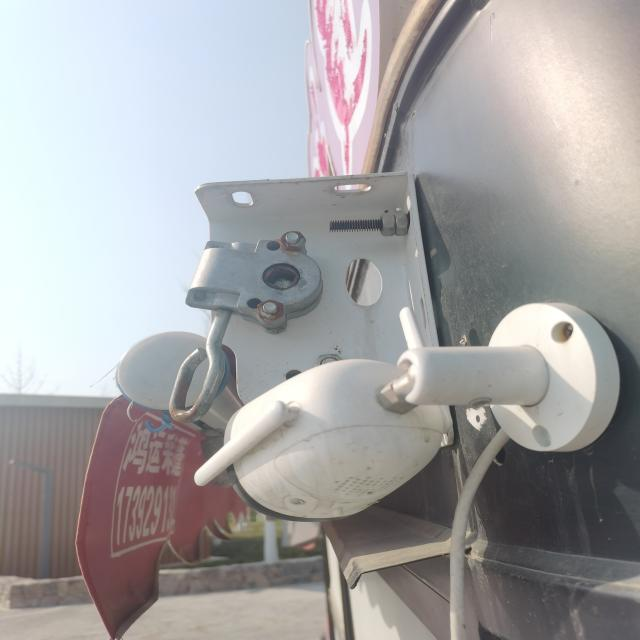blur bolt: (199, 429, 223, 441)
bolt nut: (255, 298, 285, 322), (276, 230, 308, 252)
bolt side: (379, 212, 396, 237), (393, 211, 409, 237)
